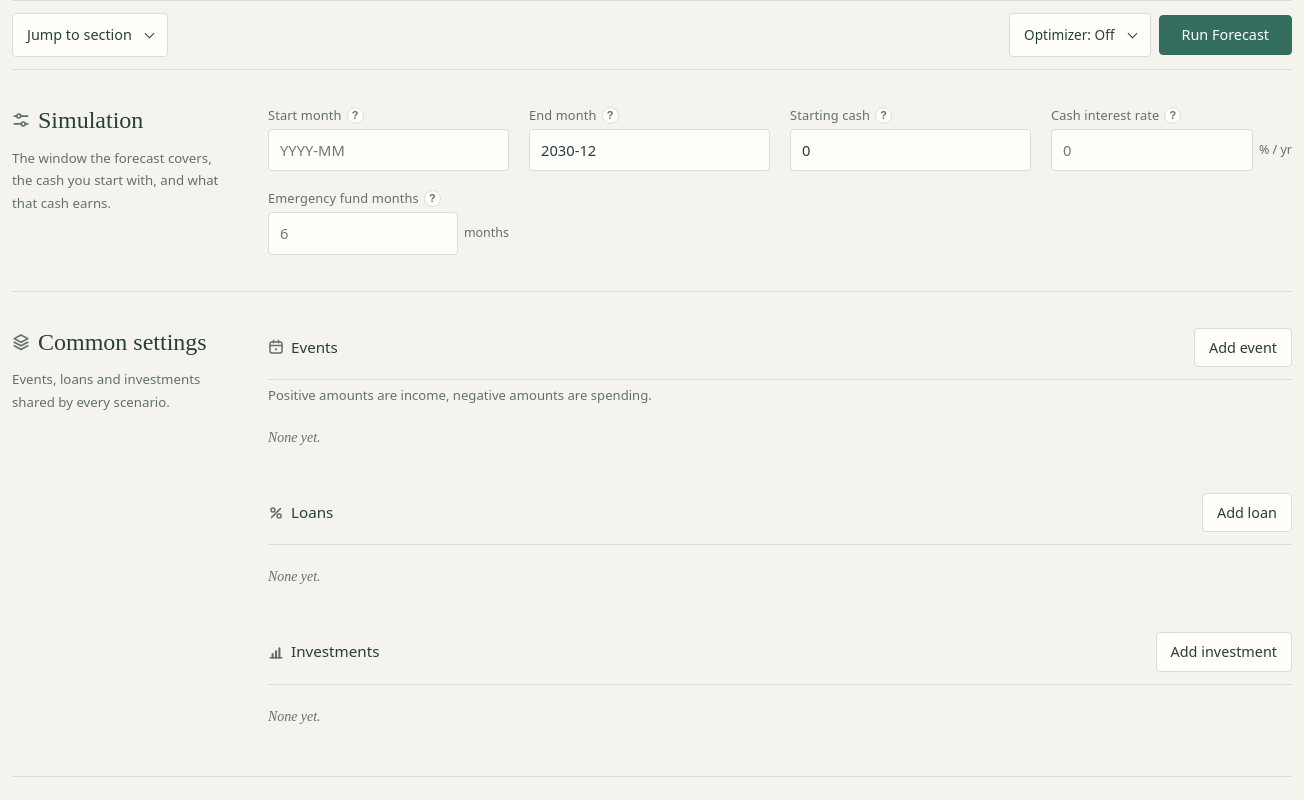
Test case: the section navigation › opens a complete table of contents with scenarios nested beneath Scenarios
Click the button "Jump to section" at [90, 35], box [12,13,168,57]
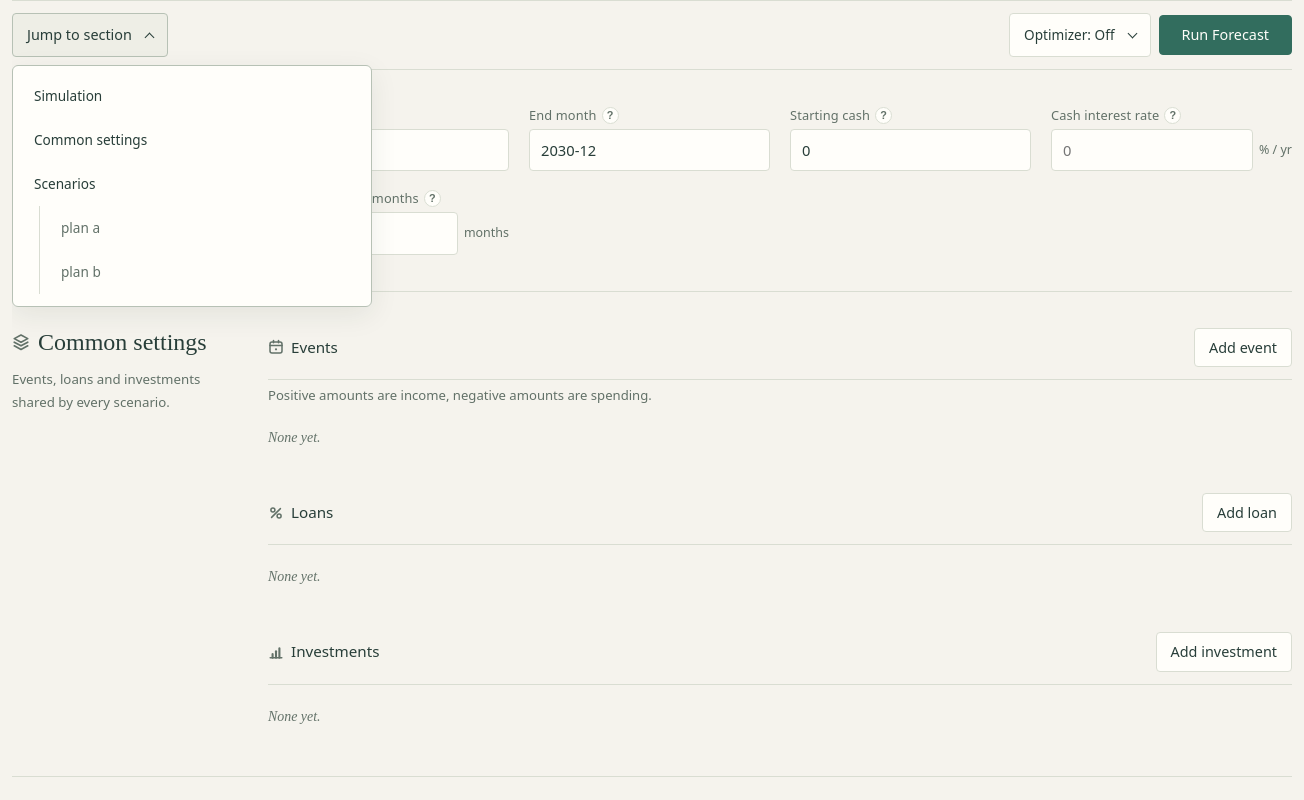
Now the list item with class "sectionnav__children" reads "Scenarios plan a plan b", box [21,162,363,294]
